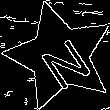N_NW: (28, 24, 92, 88)
